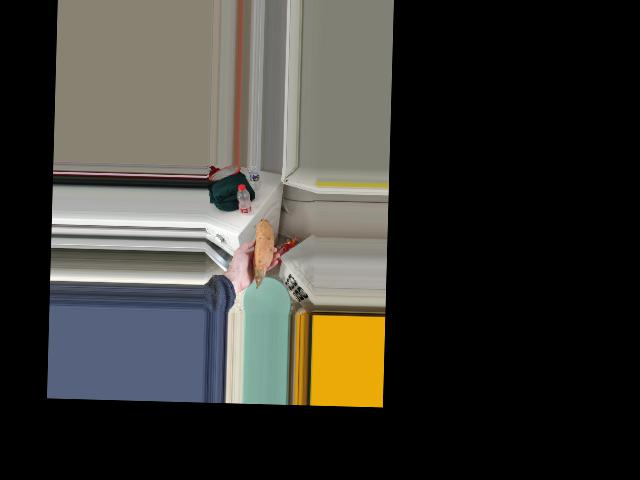sweet_potato: (251, 218, 274, 286)
